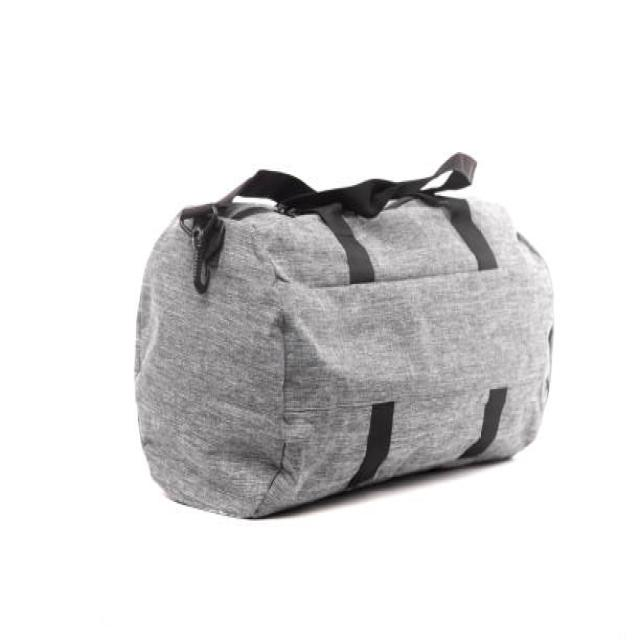bags: (136, 171, 553, 516)
